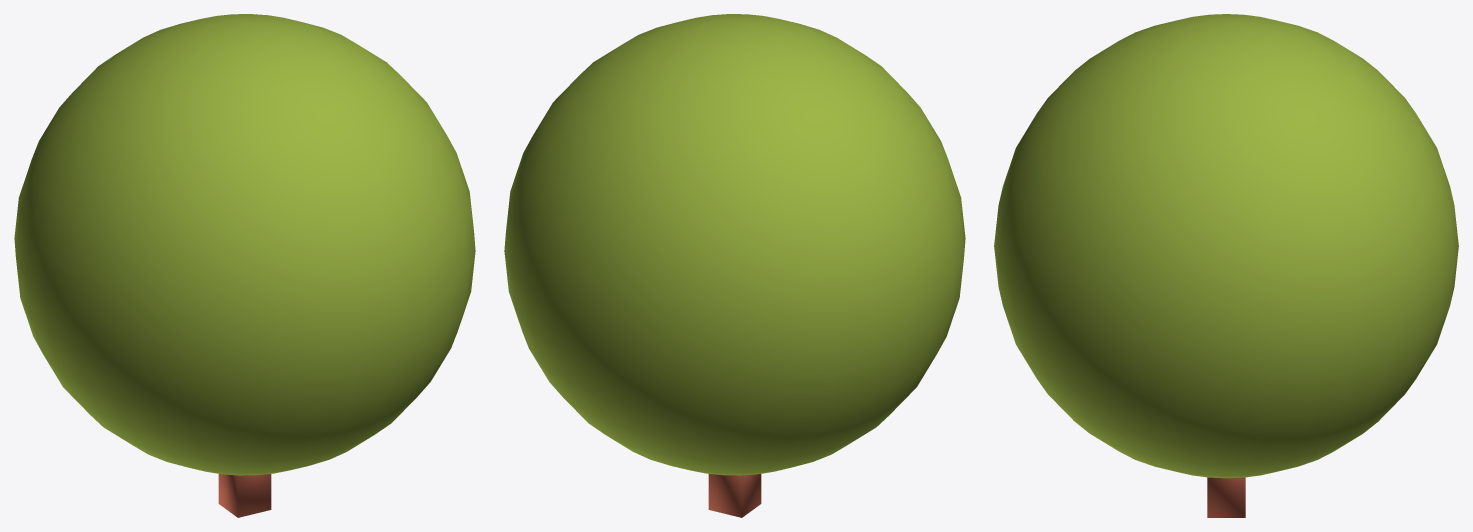
File: RC_Tree000.fbx
3 views of the same model, side by side, from view 1: azimuth 30°, elevation 25°; view 2: azimuth 150°, elevation 25°; view 3: azimuth 270°, elevation 25° (orthographic).
Parts seen in each view (by area): view 1: Tree; view 2: Tree; view 3: Tree.
Boxes of the visible parts, x1=… form: Tree: x1=14, y1=14, x2=475, y2=517; Tree: x1=504, y1=14, x2=965, y2=517; Tree: x1=994, y1=14, x2=1458, y2=517.
Bounding box in the file's own units: 343 × 386 × 343.
